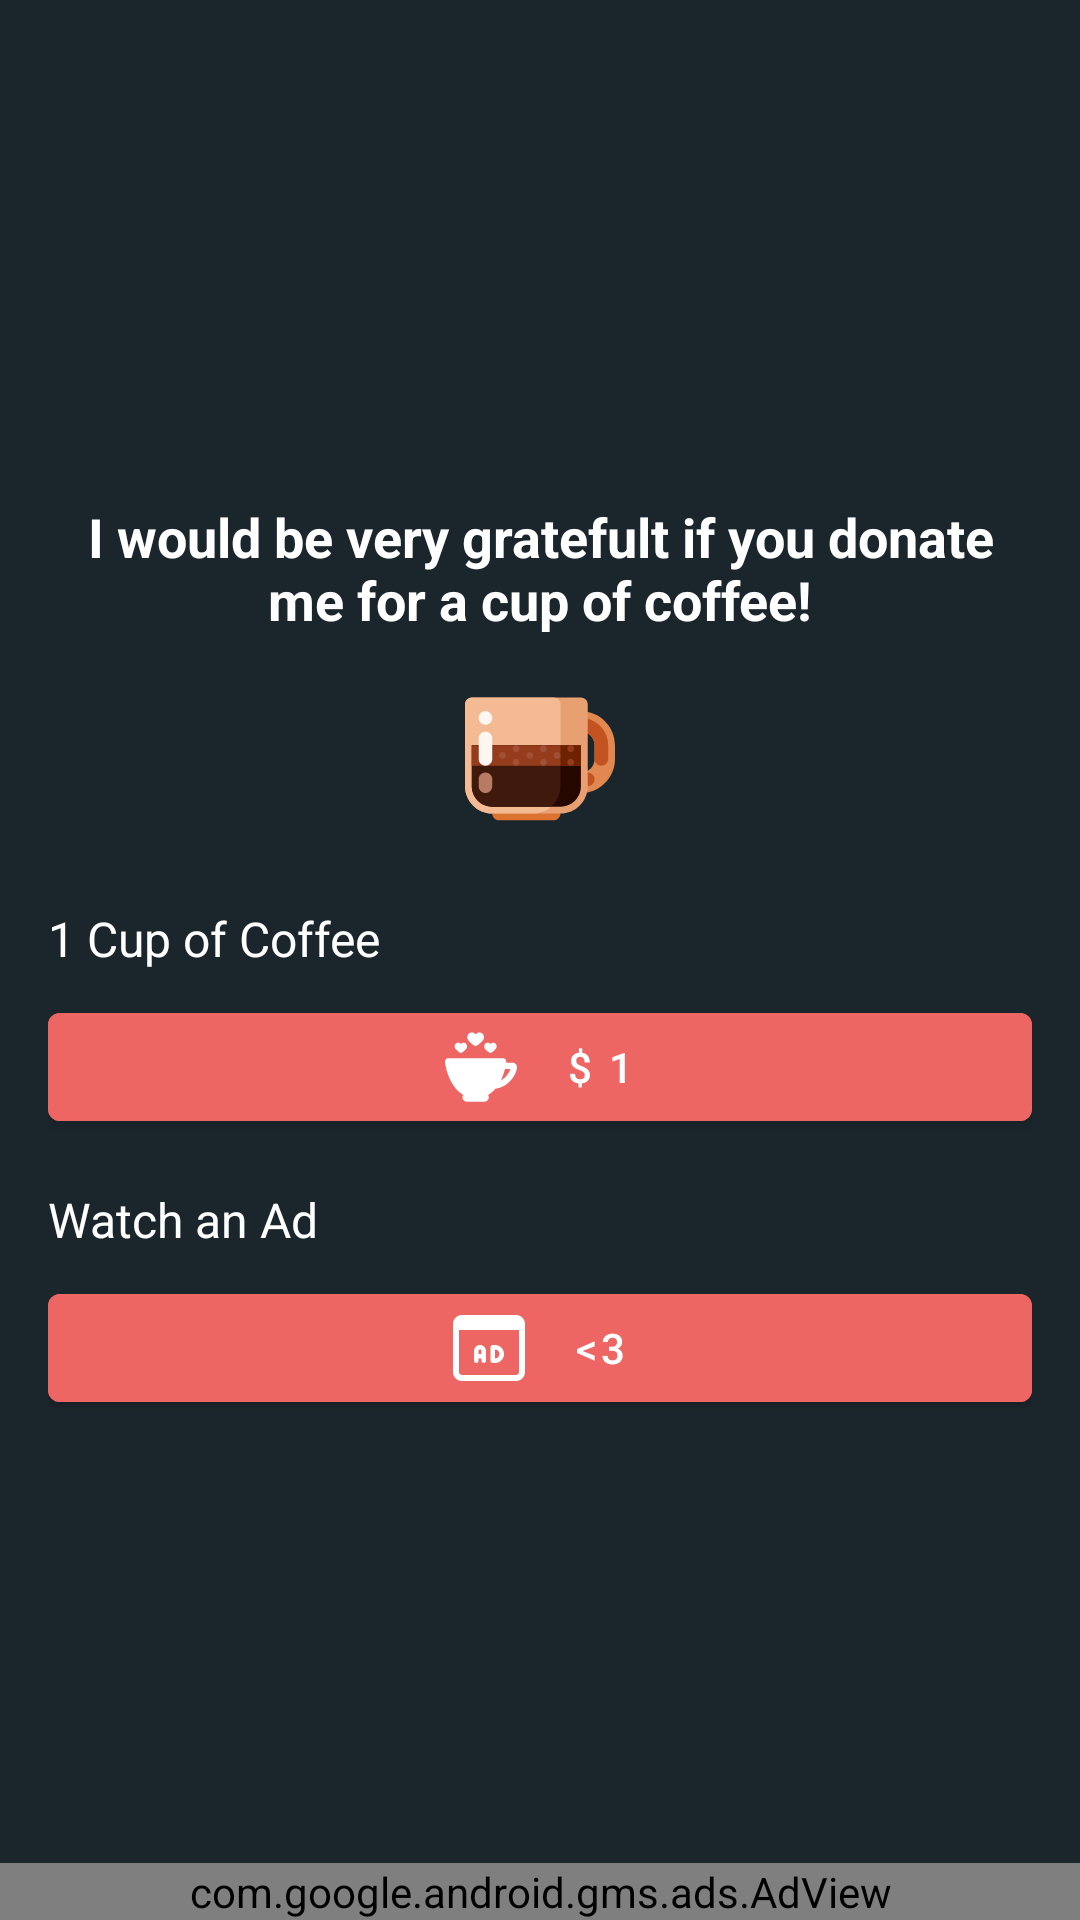

Icons on this 1080 × 1920 Android screen, each with the point to tap as [x,y]:
espresso: [540,759]
